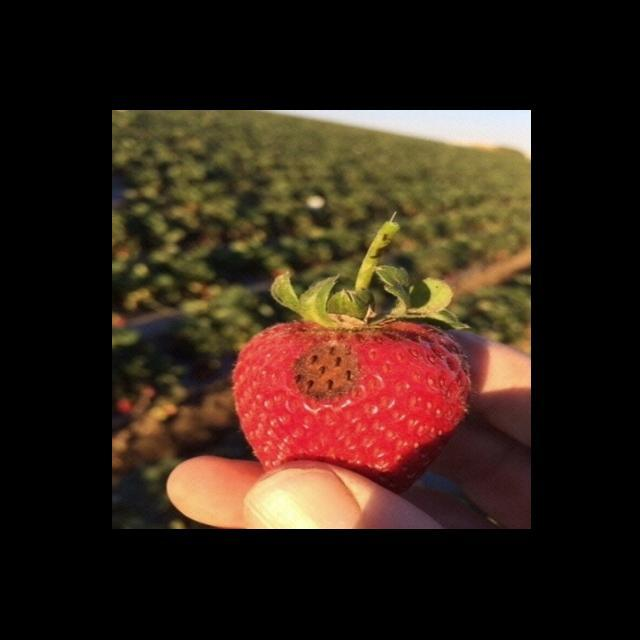Anthracnose Fruit Rot: (291, 339, 358, 409)
